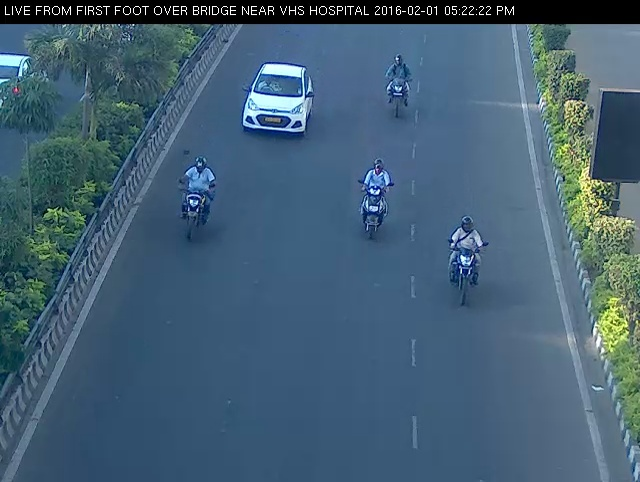Car: (229, 54, 325, 150)
Person: (438, 208, 499, 316), (166, 149, 224, 248), (349, 148, 400, 250), (378, 49, 418, 126)
